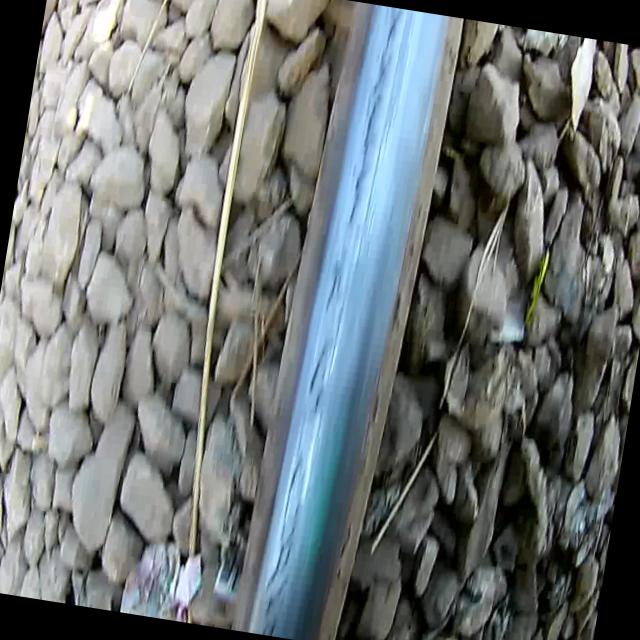Cracks: (255, 1, 410, 640)
Grooves: (323, 110, 392, 393)
